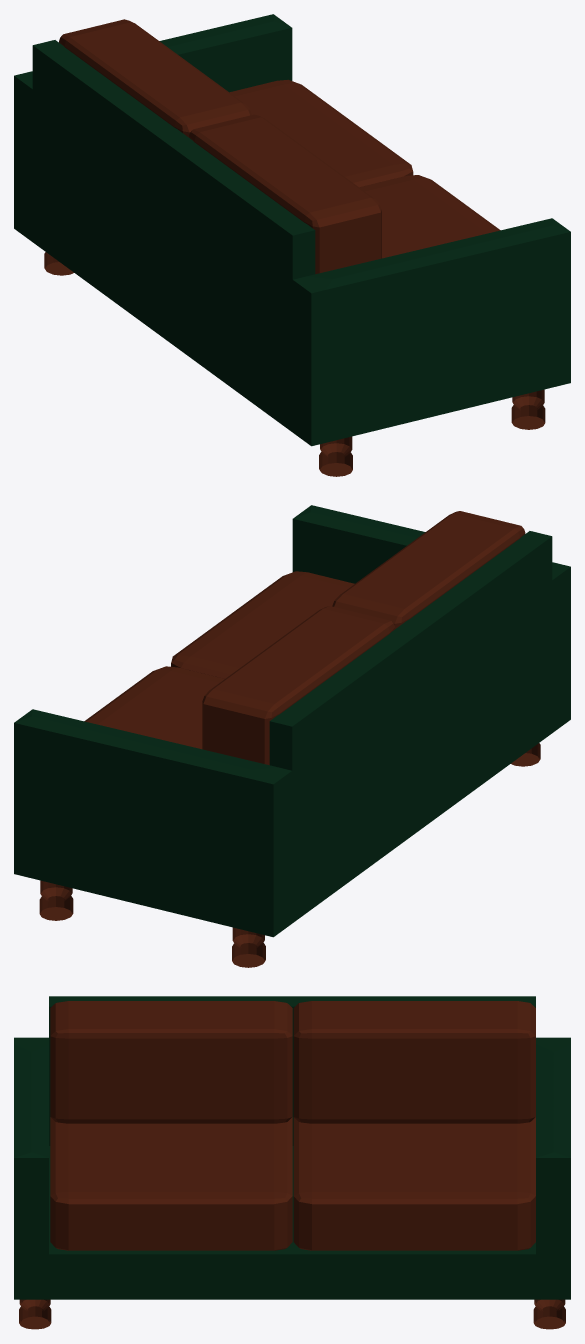
File: Sofa.obj
The picture shows the model from 3 angles, top to bottom: view 1: azimuth 30°, elevation 25°; view 2: azimuth 150°, elevation 25°; view 3: azimuth 270°, elevation 25°; orthographic projection. The views are drawn at different scales.
Parts seen in each view (by area): view 1: Corpo; view 2: Corpo; view 3: Corpo.
Part boxes in pixels (x1,y1,x2,y2): Corpo: (14,14,570,476); Corpo: (14,505,570,967); Corpo: (14,996,570,1329).
Size of the model in its own units: 3.51 by 3.18 by 6.97.
